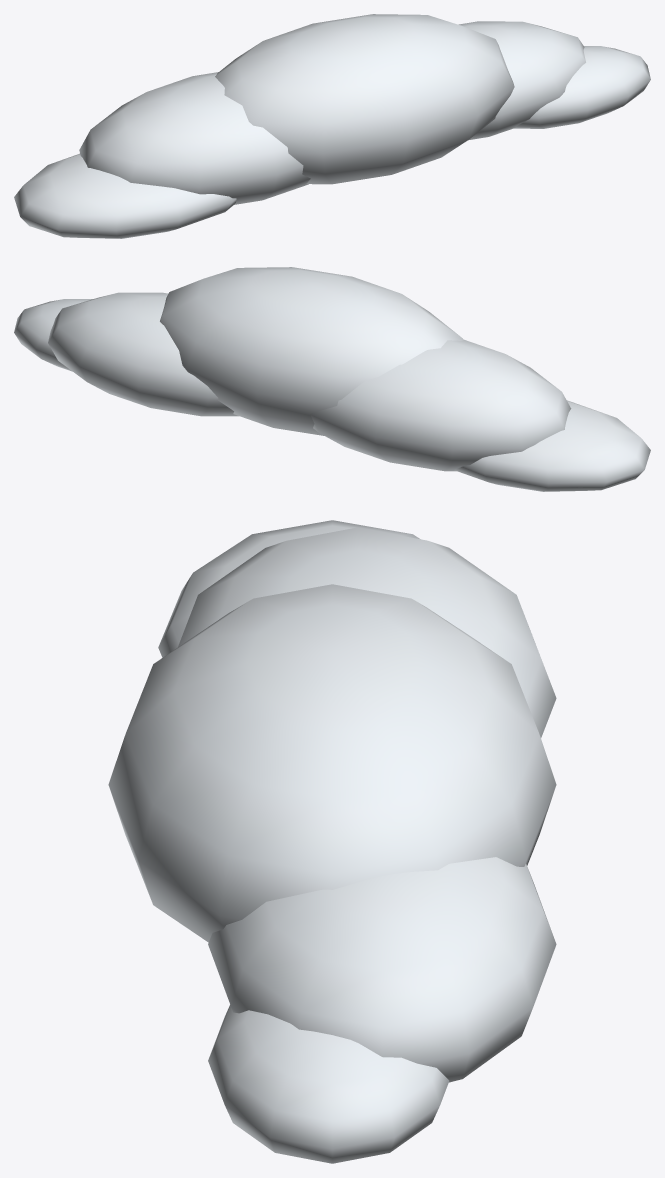
File: CloudBankWide.fbx
The picture shows the model from 3 angles, top to bottom: view 1: azimuth 30°, elevation 25°; view 2: azimuth 150°, elevation 25°; view 3: azimuth 270°, elevation 25°; orthographic projection. The views are drawn at different scales.
Visible parts, largest first — view 1: CloudBankWide; view 2: CloudBankWide; view 3: CloudBankWide.
Part boxes in pixels (x1,y1,x2,y2): CloudBankWide: (14,14,650,238); CloudBankWide: (14,267,650,491); CloudBankWide: (108,520,556,1163).
Size of the model in its own units: 58.2 by 11.7 by 18.
Materials: 1 (1 with a texture image).
